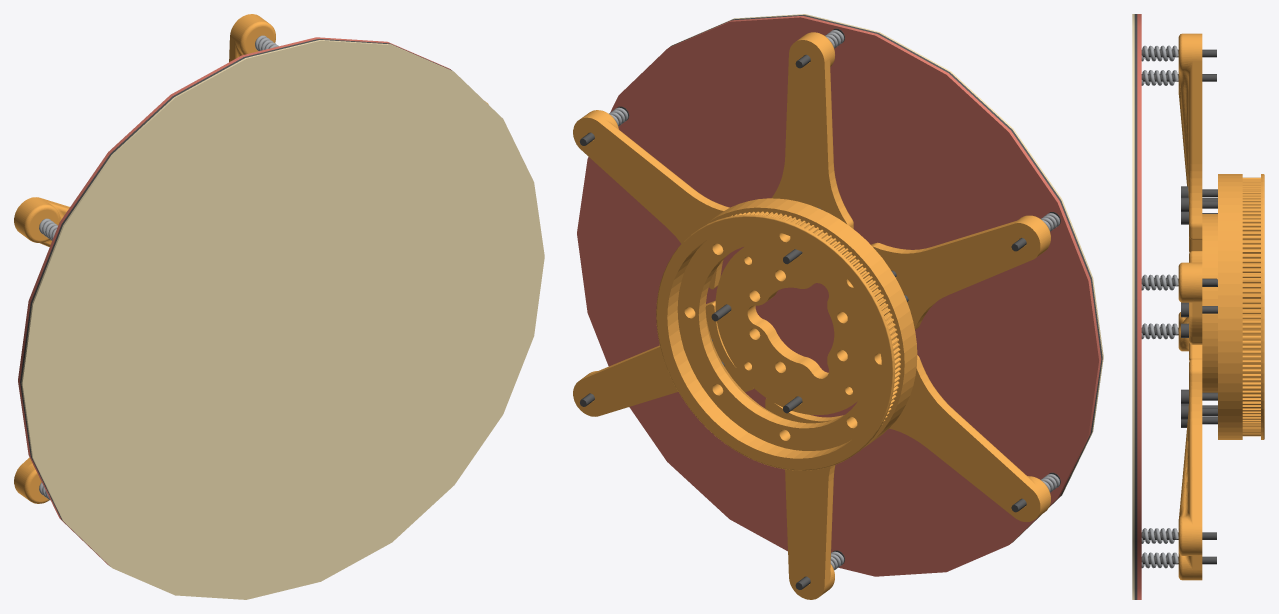
File: rotary.glb
3 renders of one model, left to right at view 1: azimuth 30°, elevation 25°; view 2: azimuth 150°, elevation 25°; view 3: azimuth 270°, elevation 25°, orthographic. The views are drawn at different scales.
Bounding box in the file's own units: 220 × 225 × 49.6.
